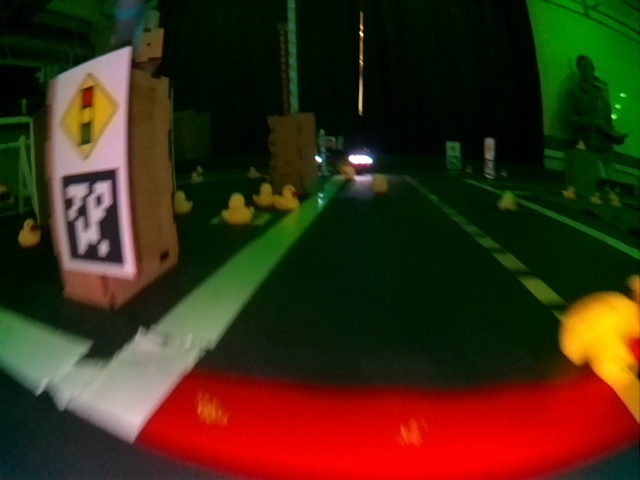Duckie: (557, 287, 638, 375), (223, 194, 252, 225), (19, 219, 41, 246), (275, 185, 299, 209), (255, 182, 274, 206), (176, 190, 194, 214)
QR code: (57, 170, 129, 269)
Signal sign: (55, 64, 128, 163)
